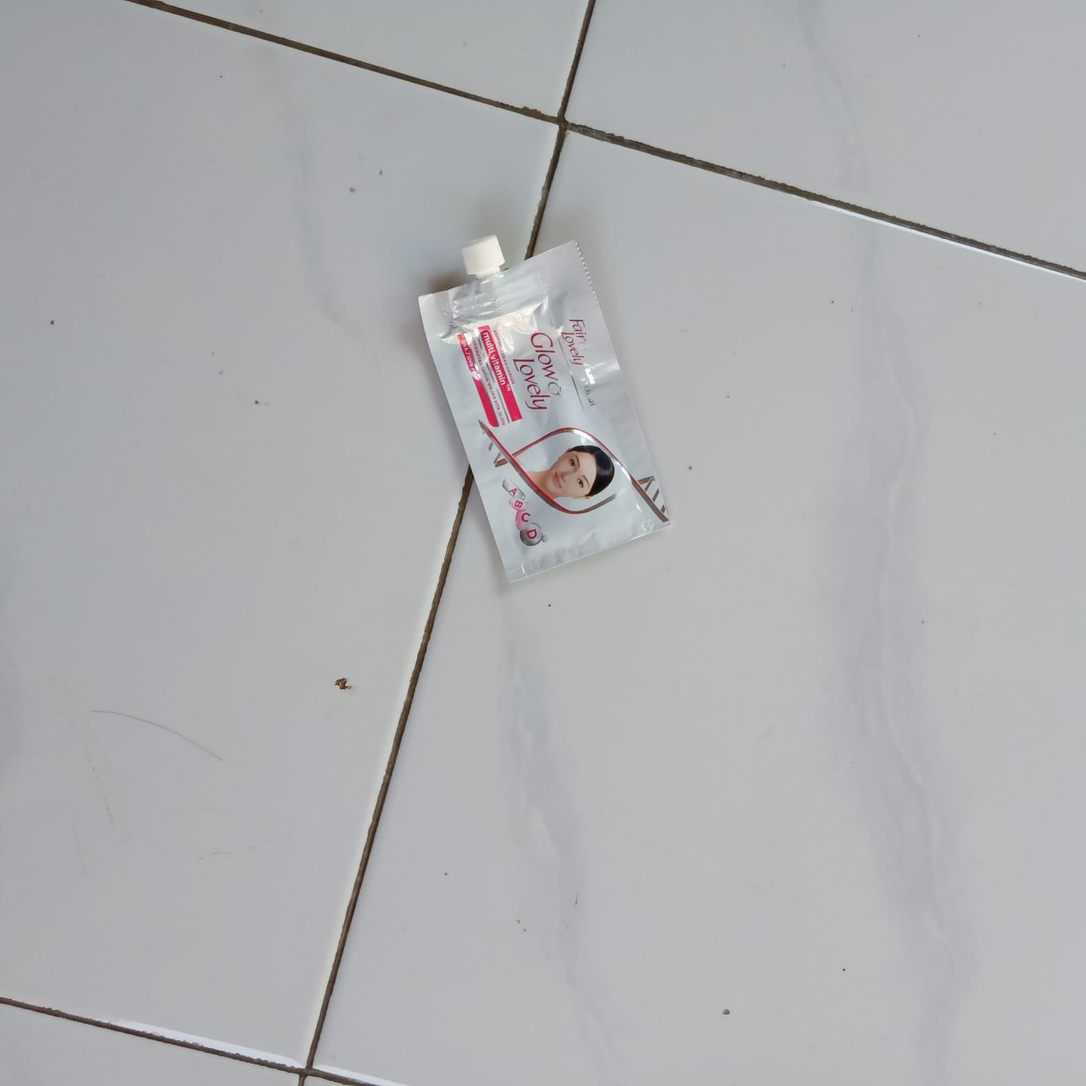Plastik: (417, 242, 673, 583)
